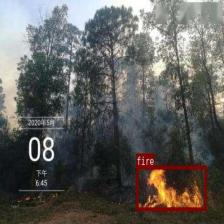fire: (136, 165, 206, 210)
